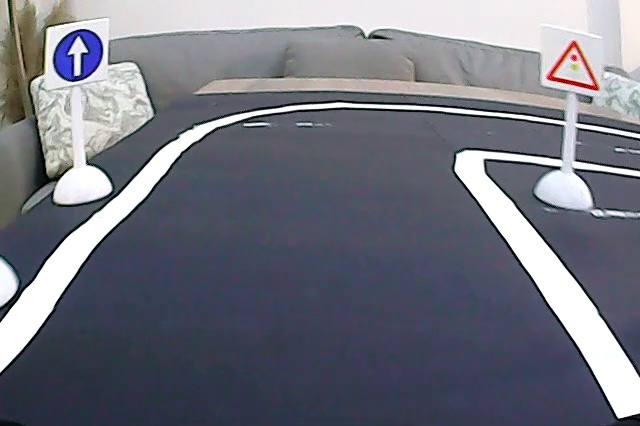red light: (542, 26, 601, 92)
